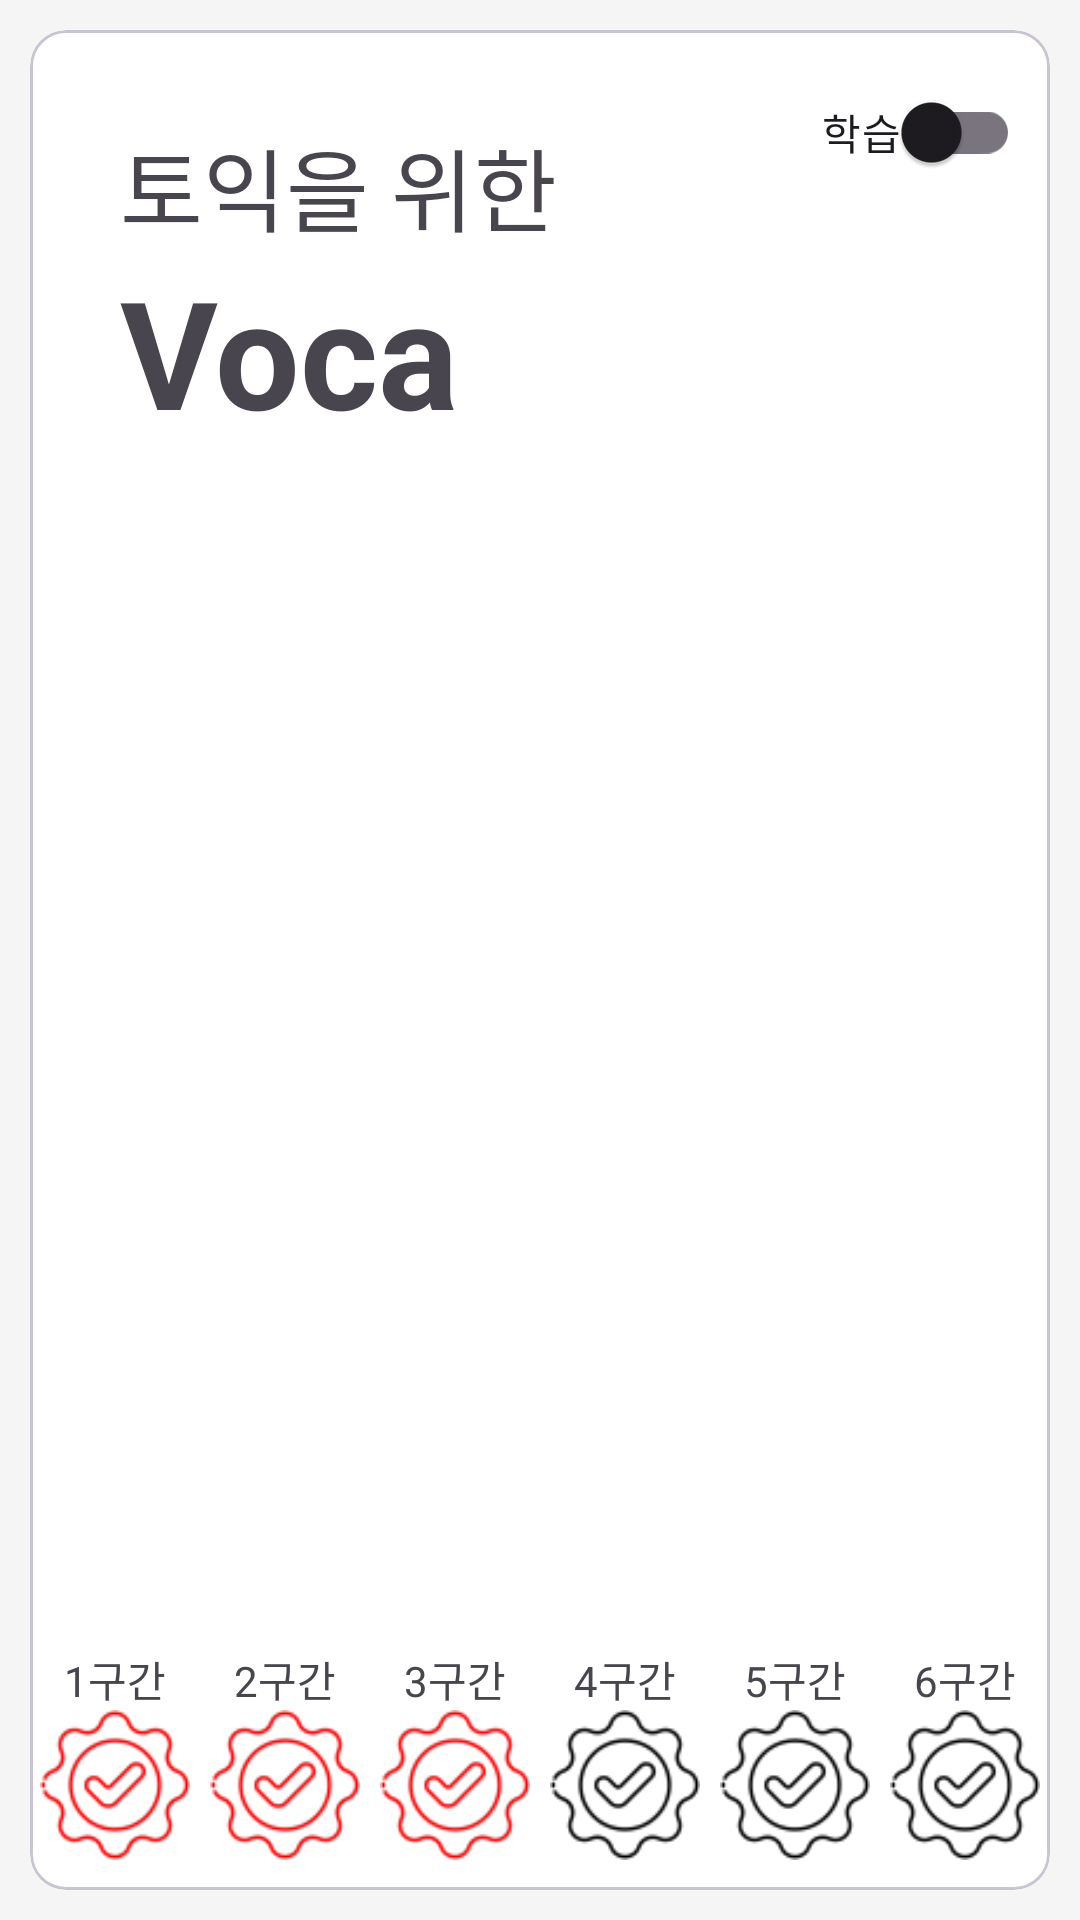

Where icons sit on this 1080*1920 app screen, as (x1, y1, x2, y2):
checked stamp: (40, 1710, 190, 1860), (210, 1710, 360, 1860), (380, 1710, 530, 1860)
unchecked stamp: (550, 1710, 700, 1860), (720, 1710, 870, 1860), (890, 1710, 1040, 1860)
